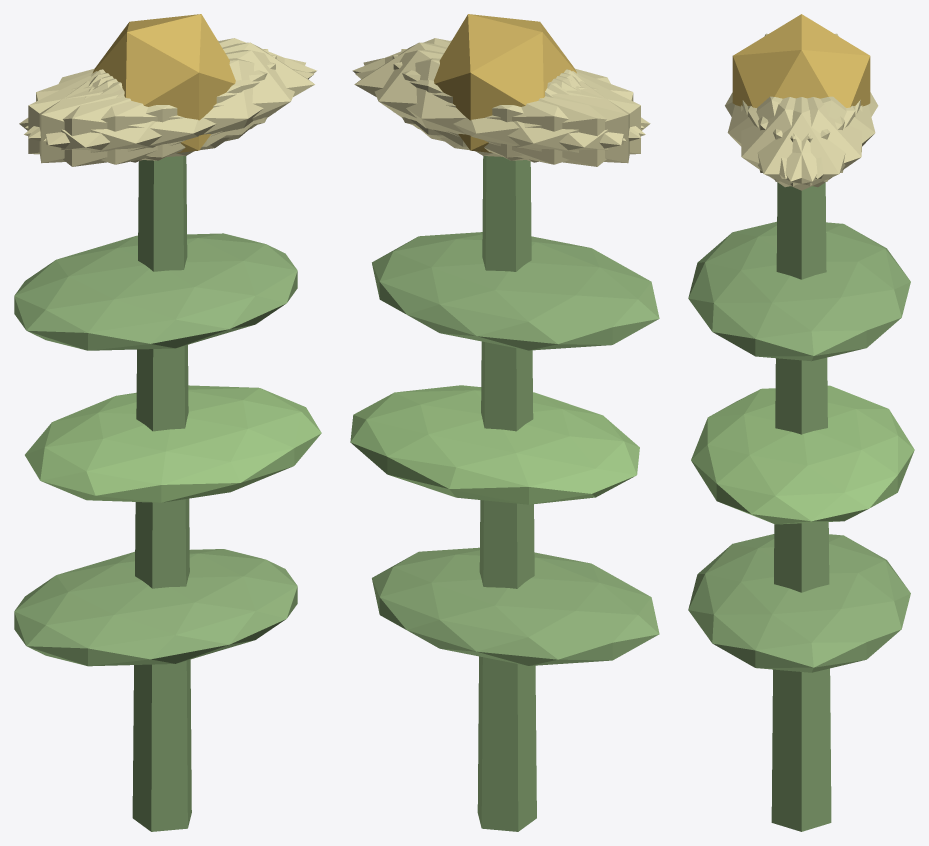
Rendered from citrus-hystrix.glb.
The picture shows the model from 3 angles, left to right: view 1: azimuth 30°, elevation 25°; view 2: azimuth 150°, elevation 25°; view 3: azimuth 270°, elevation 25°; orthographic projection.
Parts seen in each view (by area): view 1: leaf2, leaf1, stem, leaf0, center, petal1, petal6, petal2, petal5, petal7, petal0, petal4 (+2 smaller); view 2: leaf1, stem, leaf2, leaf0, center, petal8, petal3, petal7, petal4, petal2, petal0, petal5 (+2 smaller); view 3: leaf1, leaf2, stem, leaf0, center, petal0, petal5, petal4, petal1, petal8.
Part boxes in pixels (box(x1,y1,x2,y2)): leaf2: box(14, 233, 297, 350); leaf1: box(25, 385, 321, 502); stem: box(132, 156, 191, 831); leaf0: box(14, 549, 297, 666); center: box(92, 14, 235, 152); petal1: box(24, 58, 313, 164); petal6: box(19, 71, 229, 166); petal2: box(39, 49, 268, 163); petal5: box(43, 50, 305, 157); petal7: box(28, 55, 276, 160); petal0: box(92, 42, 314, 147); petal4: box(25, 38, 316, 138); leaf1: box(350, 385, 639, 504); stem: box(477, 156, 536, 831); leaf2: box(372, 232, 659, 350); leaf0: box(372, 547, 659, 665); center: box(434, 14, 576, 152); petal8: box(355, 58, 645, 164); petal3: box(440, 71, 650, 166); petal7: box(401, 49, 629, 163); petal4: box(363, 50, 625, 157); petal2: box(392, 55, 640, 160); petal0: box(354, 42, 577, 147); petal5: box(352, 38, 644, 138); leaf1: box(691, 385, 914, 524); leaf2: box(688, 221, 910, 361); stem: box(771, 182, 831, 831); leaf0: box(688, 534, 910, 672); center: box(732, 14, 870, 107); petal0: box(742, 97, 860, 190); petal5: box(741, 97, 855, 187); petal4: box(748, 97, 862, 187); petal1: box(727, 96, 844, 178); petal8: box(758, 96, 875, 178).
Size of the model in its own units: 0.1491 by 0.3865 by 0.1009.
